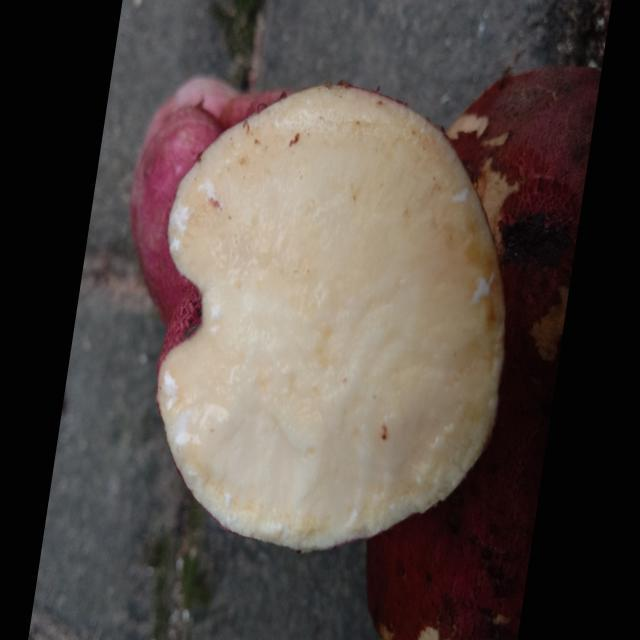Healthy Sweet Potato: (158, 85, 504, 550)
